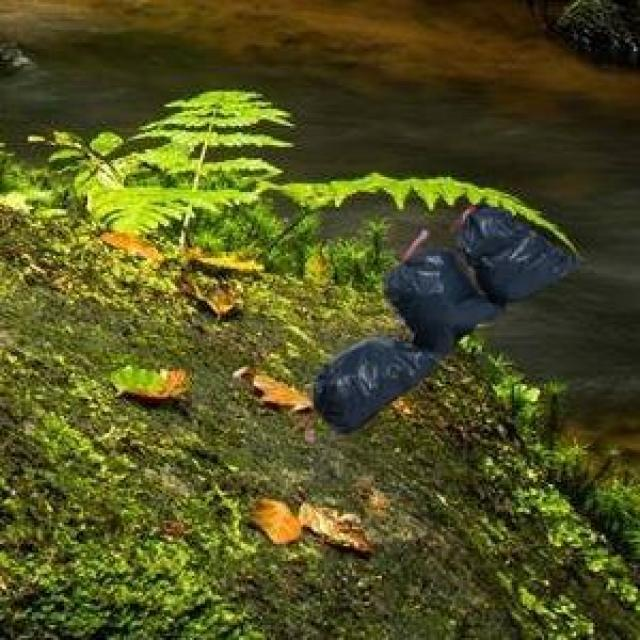Trashbag: (308, 333, 447, 435), (382, 249, 500, 355), (458, 208, 584, 302)
